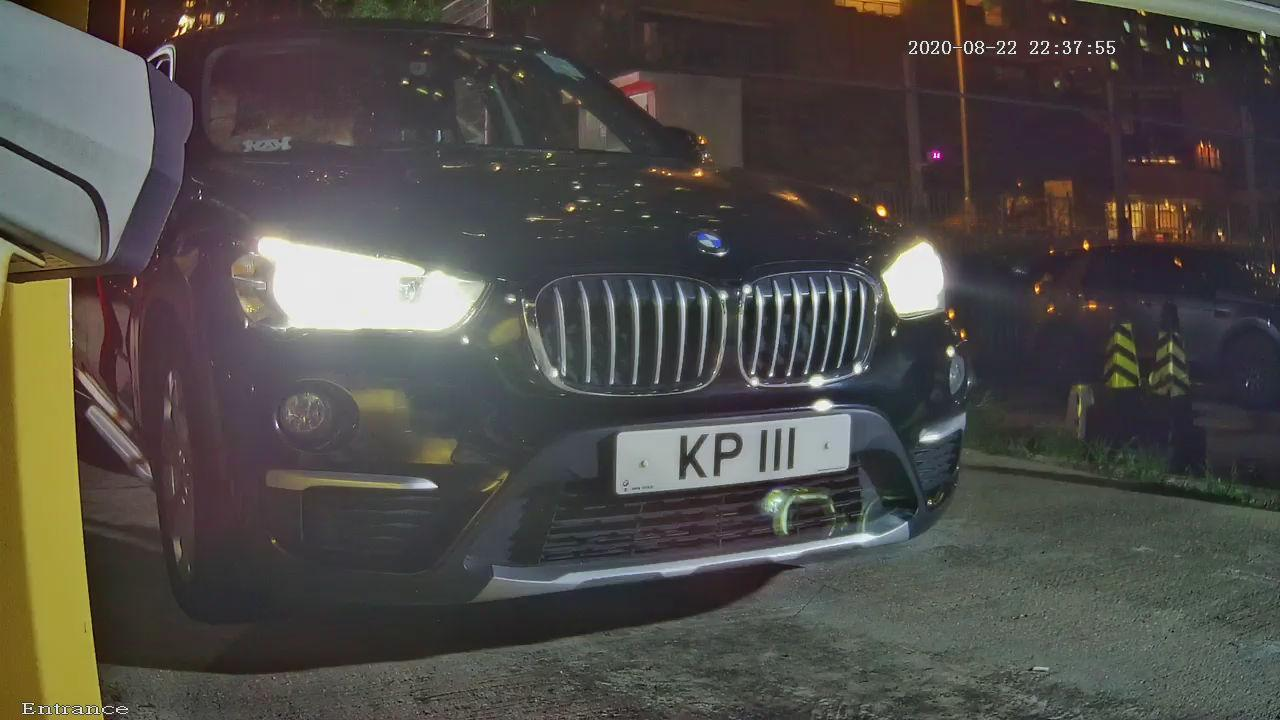Car: (12, 13, 1052, 656)
License Plate: (543, 355, 909, 544)
